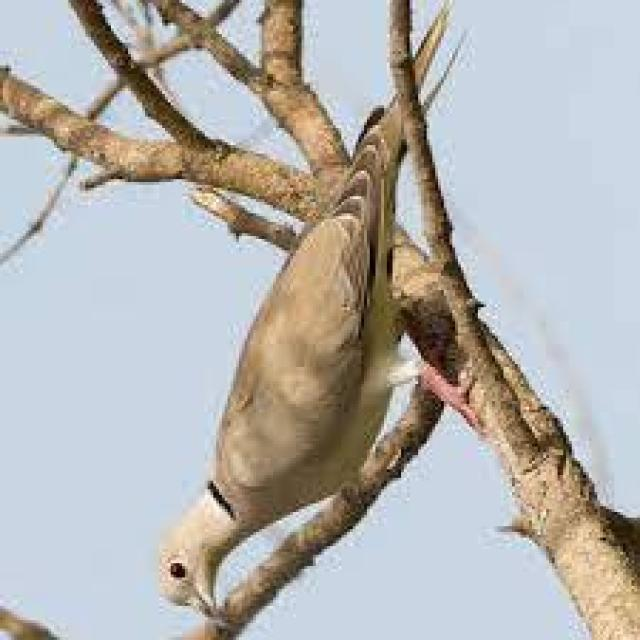pigeon: (136, 31, 482, 626)
